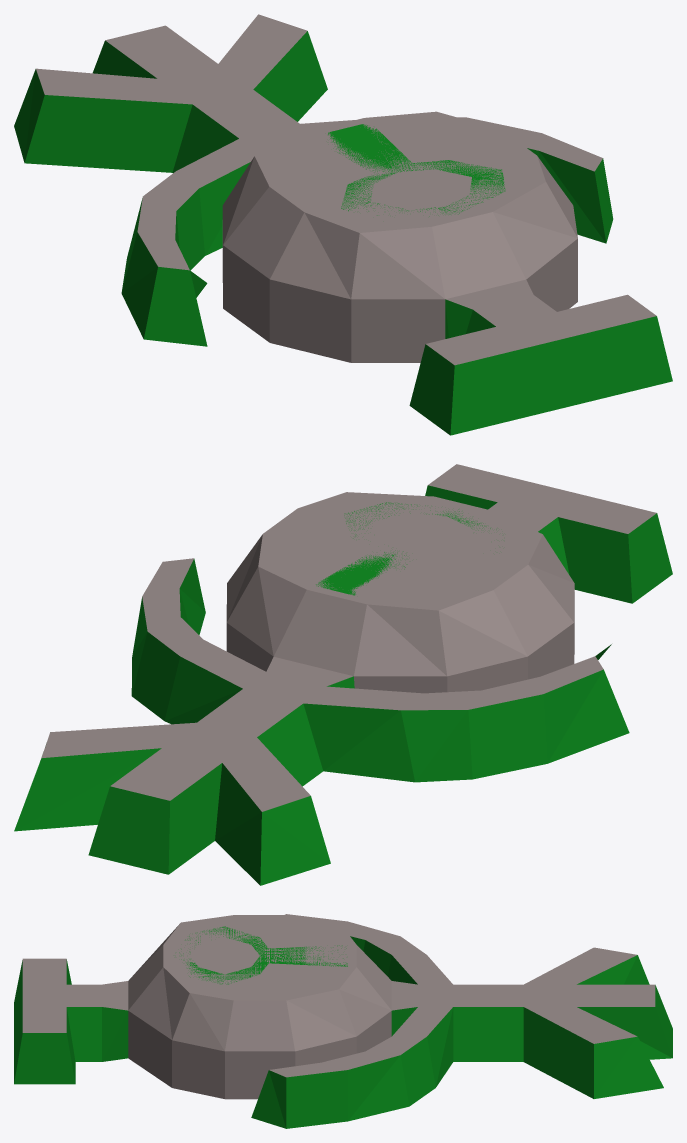
File: inv_nature_talisman.obj
3 views of the same model, one above another, from view 1: azimuth 30°, elevation 25°; view 2: azimuth 150°, elevation 25°; view 3: azimuth 270°, elevation 25° (orthographic). The views are drawn at different scales.
Size of the model in its own units: 0.3672 by 0.0859 by 0.5859.
